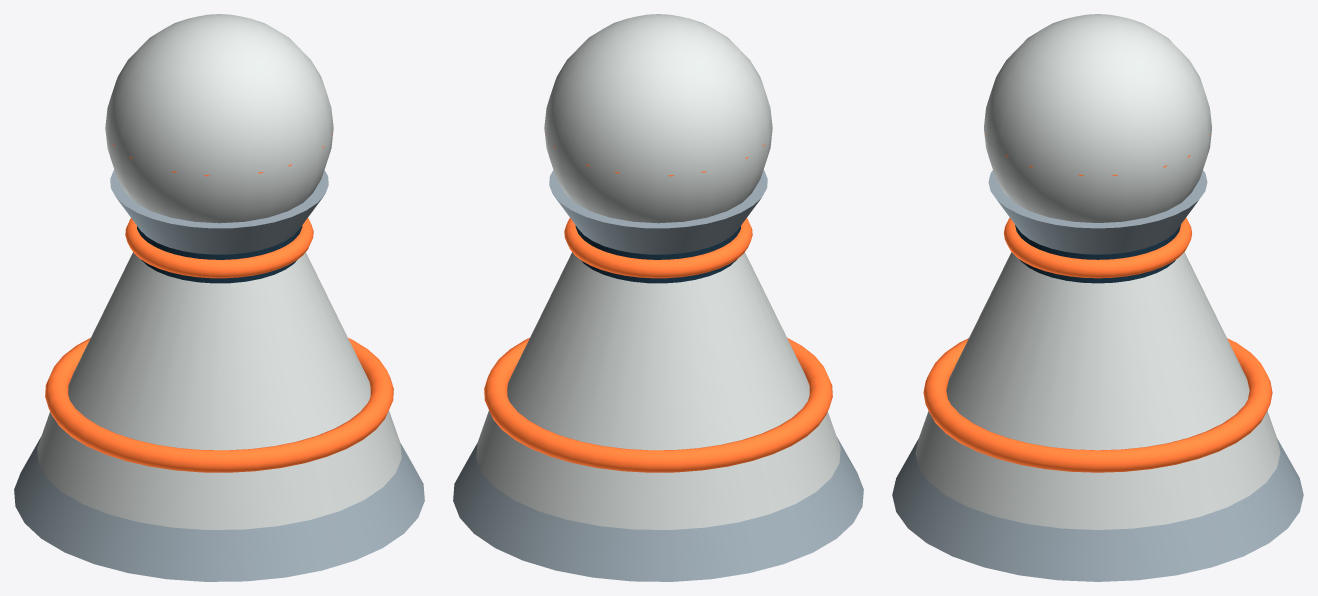
The model's file is pawn.glb.
The picture shows the model from 3 angles, left to right: view 1: azimuth 30°, elevation 25°; view 2: azimuth 150°, elevation 25°; view 3: azimuth 270°, elevation 25°; orthographic projection.
Parts seen in each view (by area): view 1: stem, pawn_head, foot, mount, power_collar, body, power_neck, neck; view 2: stem, pawn_head, foot, mount, power_collar, body, power_neck, neck; view 3: stem, pawn_head, foot, mount, power_collar, body, power_neck, neck.
Boxes of the visible parts, x1=… form: stem: x1=68, y1=252, x2=370, y2=450; pawn_head: x1=105, y1=14, x2=333, y2=223; foot: x1=14, y1=437, x2=424, y2=581; mount: x1=37, y1=411, x2=401, y2=529; power_collar: x1=45, y1=338, x2=393, y2=472; body: x1=110, y1=170, x2=328, y2=254; power_neck: x1=125, y1=218, x2=313, y2=278; neck: x1=137, y1=225, x2=302, y2=283; stem: x1=507, y1=252, x2=809, y2=450; pawn_head: x1=544, y1=14, x2=772, y2=223; foot: x1=453, y1=437, x2=863, y2=581; mount: x1=476, y1=411, x2=840, y2=529; power_collar: x1=484, y1=338, x2=832, y2=472; body: x1=549, y1=170, x2=767, y2=254; power_neck: x1=564, y1=218, x2=752, y2=278; neck: x1=575, y1=225, x2=740, y2=283; stem: x1=946, y1=252, x2=1249, y2=450; pawn_head: x1=984, y1=14, x2=1211, y2=222; foot: x1=892, y1=438, x2=1303, y2=581; mount: x1=915, y1=411, x2=1280, y2=529; power_collar: x1=923, y1=338, x2=1272, y2=472; body: x1=988, y1=170, x2=1207, y2=254; power_neck: x1=1003, y1=218, x2=1192, y2=278; neck: x1=1015, y1=225, x2=1180, y2=283.
Bounding box in the file's own units: 0.62 × 0.782 × 0.62.
